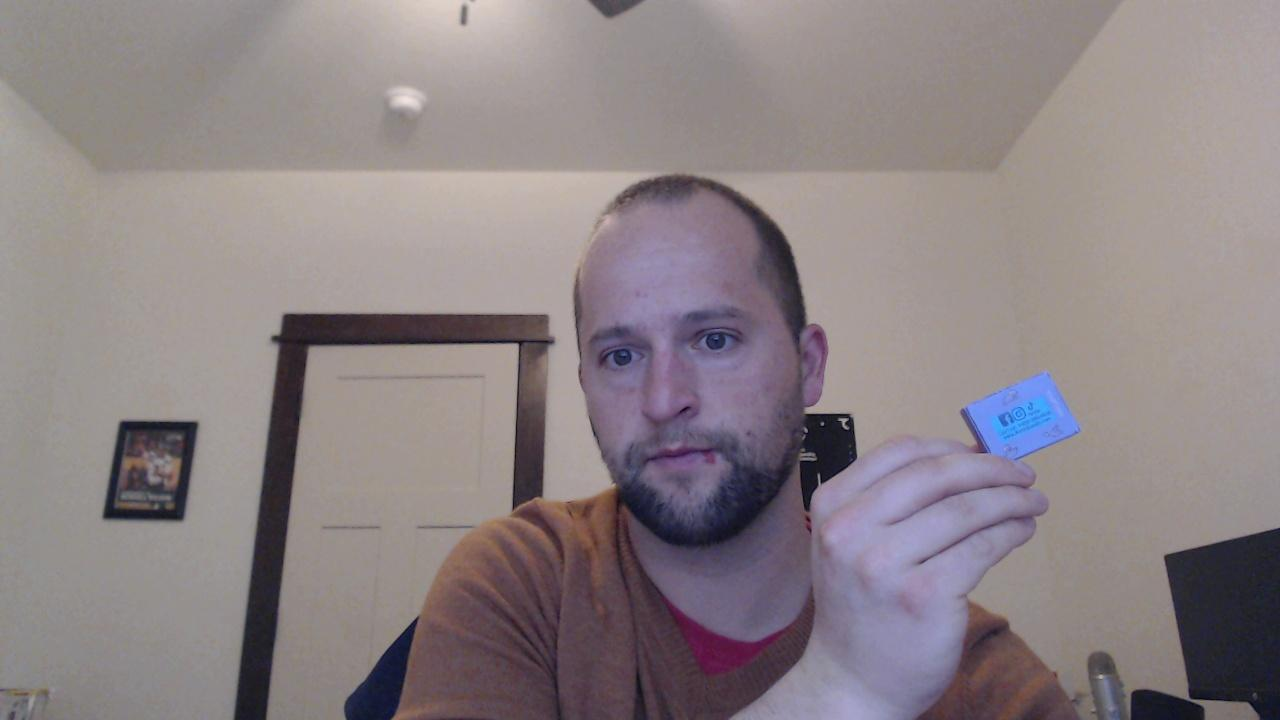nerds: (958, 368, 1085, 469)
